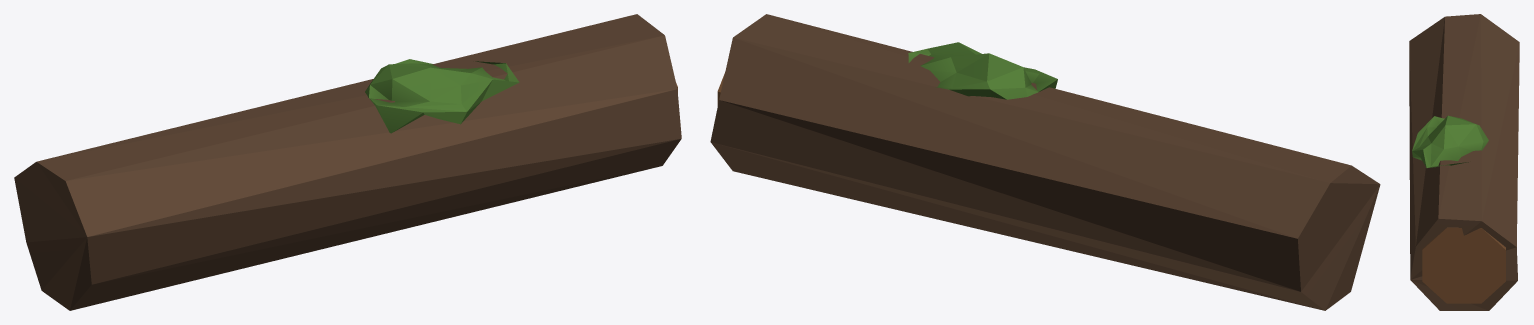
File: log.glb
3 renders of one model, left to right at view 1: azimuth 30°, elevation 25°; view 2: azimuth 150°, elevation 25°; view 3: azimuth 270°, elevation 25°, orthographic. The views are drawn at different scales.
Visible parts, largest first — view 1: log; view 2: log; view 3: log.
Boxes of the visible parts, bbox=[...] form: log: bbox=[14, 14, 681, 310]; log: bbox=[710, 14, 1380, 310]; log: bbox=[1409, 14, 1519, 310].
Size of the model in its own units: 1.63 by 0.3964 by 0.3665.
